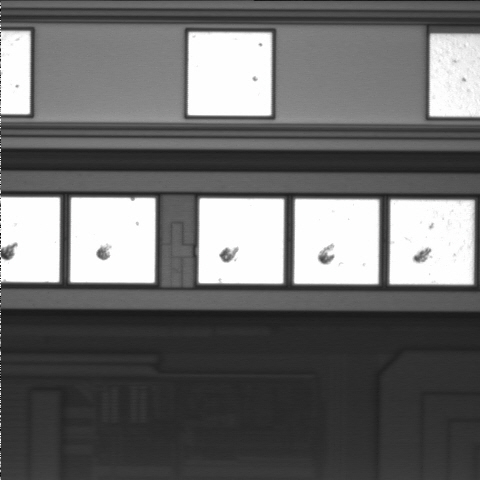pad: (199, 198, 284, 284), (70, 198, 155, 283), (294, 199, 379, 284), (188, 32, 272, 116), (390, 200, 474, 284)
